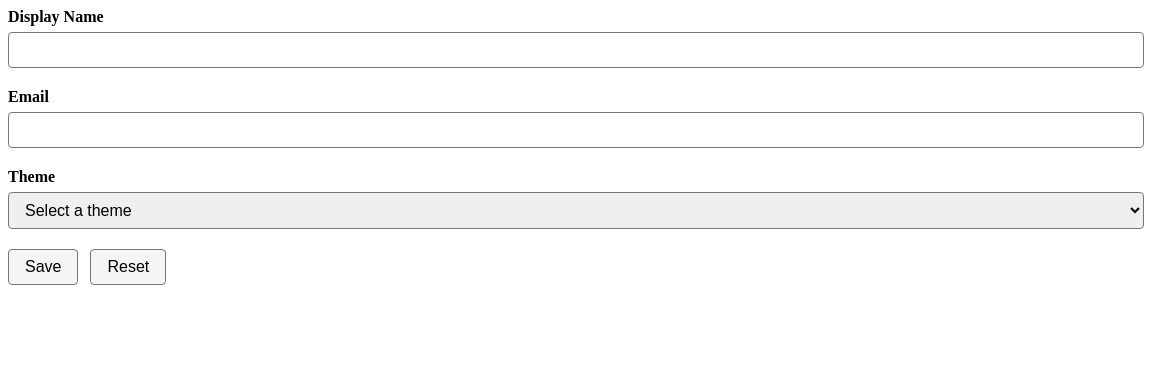
Test: SettingsForm › shows validation errors on empty submission
The width and height of the screenshot is (1152, 374).
Click the button "Save" at (43, 267), box [8,249,78,285]
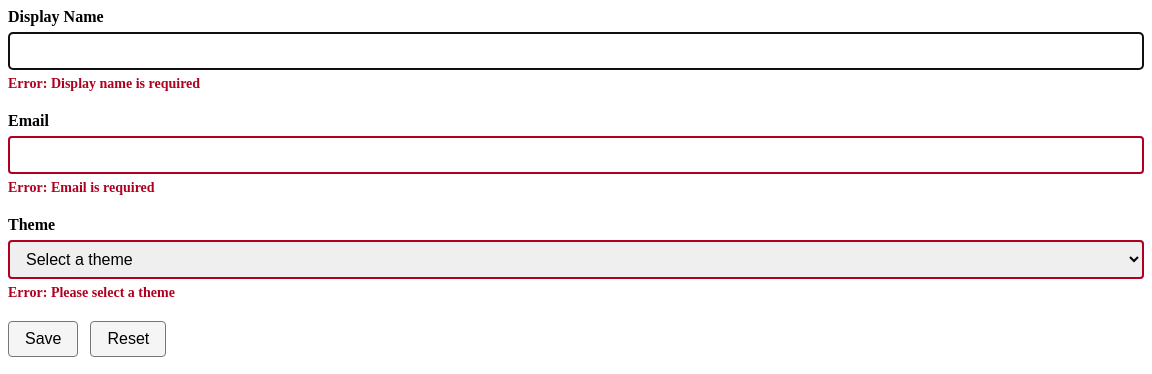
Now the text "Display name is required" is shown, box [51,76,200,91]
Now the text "Email is required" is shown, box [51,180,155,195]
Now the text "Please select a theme" is shown, box [51,285,175,300]
